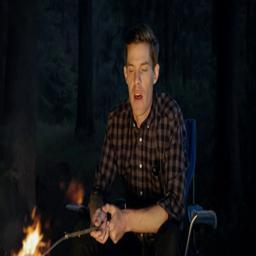fire: (13, 209, 49, 256)
